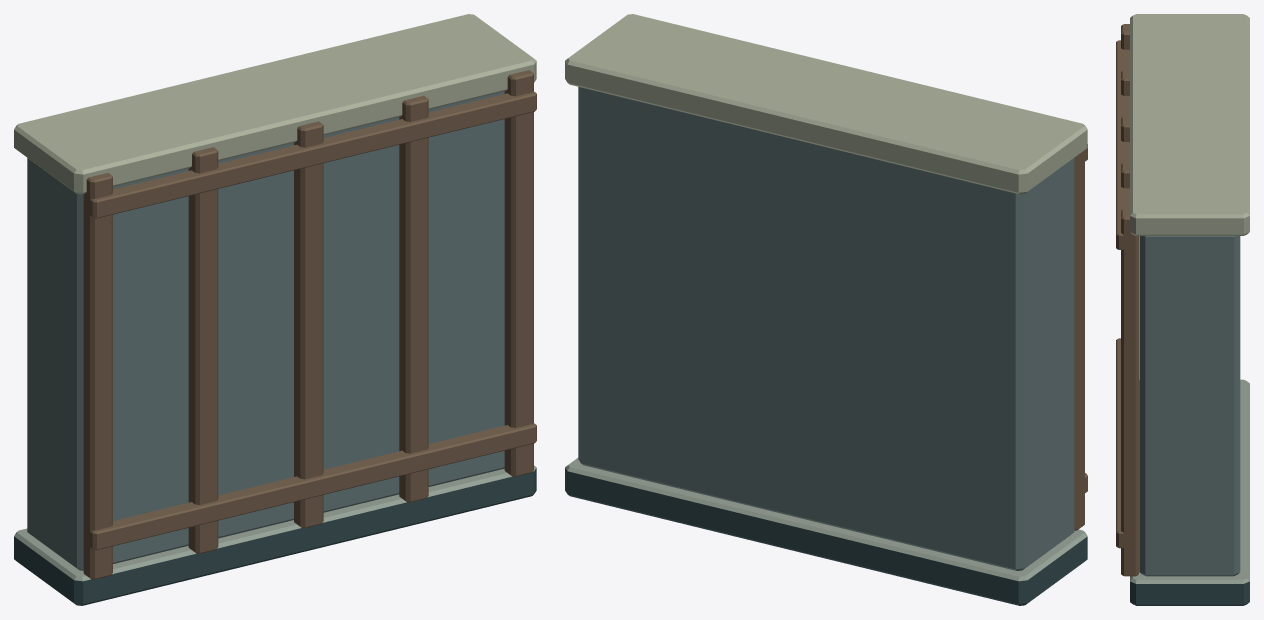
File: wall-tall.glb
3 views of the same model, side by side, from view 1: azimuth 30°, elevation 25°; view 2: azimuth 150°, elevation 25°; view 3: azimuth 270°, elevation 25° (orthographic). The views are drawn at different scales.
Parts seen in each view (by area): view 1: wall-tall__body; view 2: wall-tall__body; view 3: wall-tall__body.
Part boxes in pixels (bbox=[...]): wall-tall__body: bbox=[14, 14, 536, 605]; wall-tall__body: bbox=[565, 14, 1087, 605]; wall-tall__body: bbox=[1116, 14, 1249, 605].
Bounding box in the file's own units: 2 × 1.8 × 0.5575.
